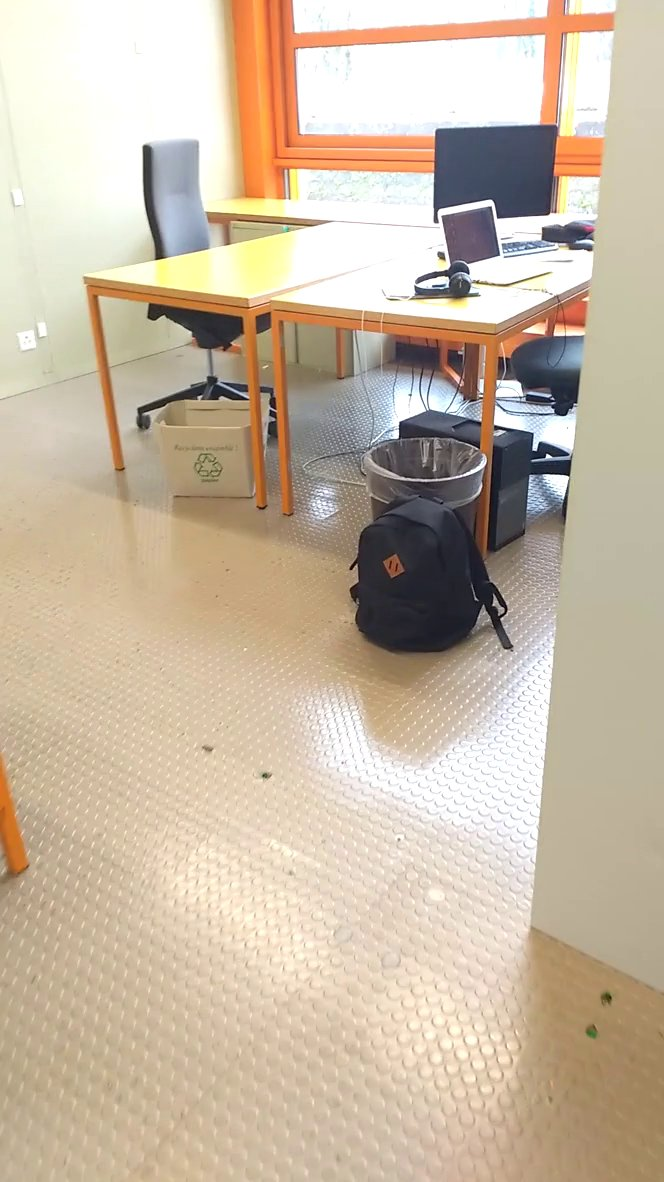bag: (343, 492, 518, 655)
bin: (357, 424, 494, 519)
box: (143, 391, 273, 507)
chair: (132, 130, 308, 445)
laptop: (430, 195, 560, 289)
